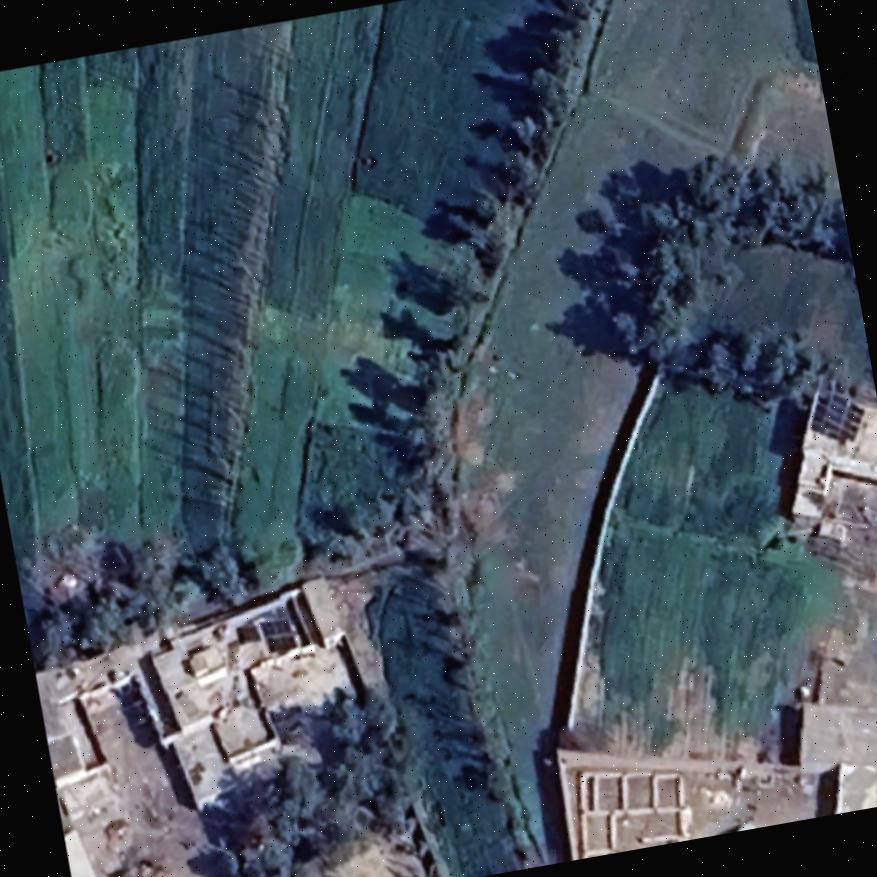Solarpanel: (809, 382, 866, 446), (255, 612, 300, 658)
